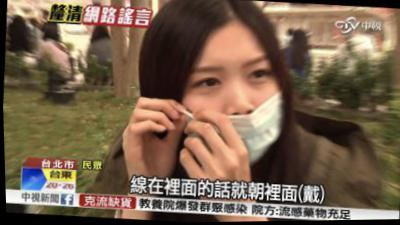WRONG: (176, 36, 291, 175)
